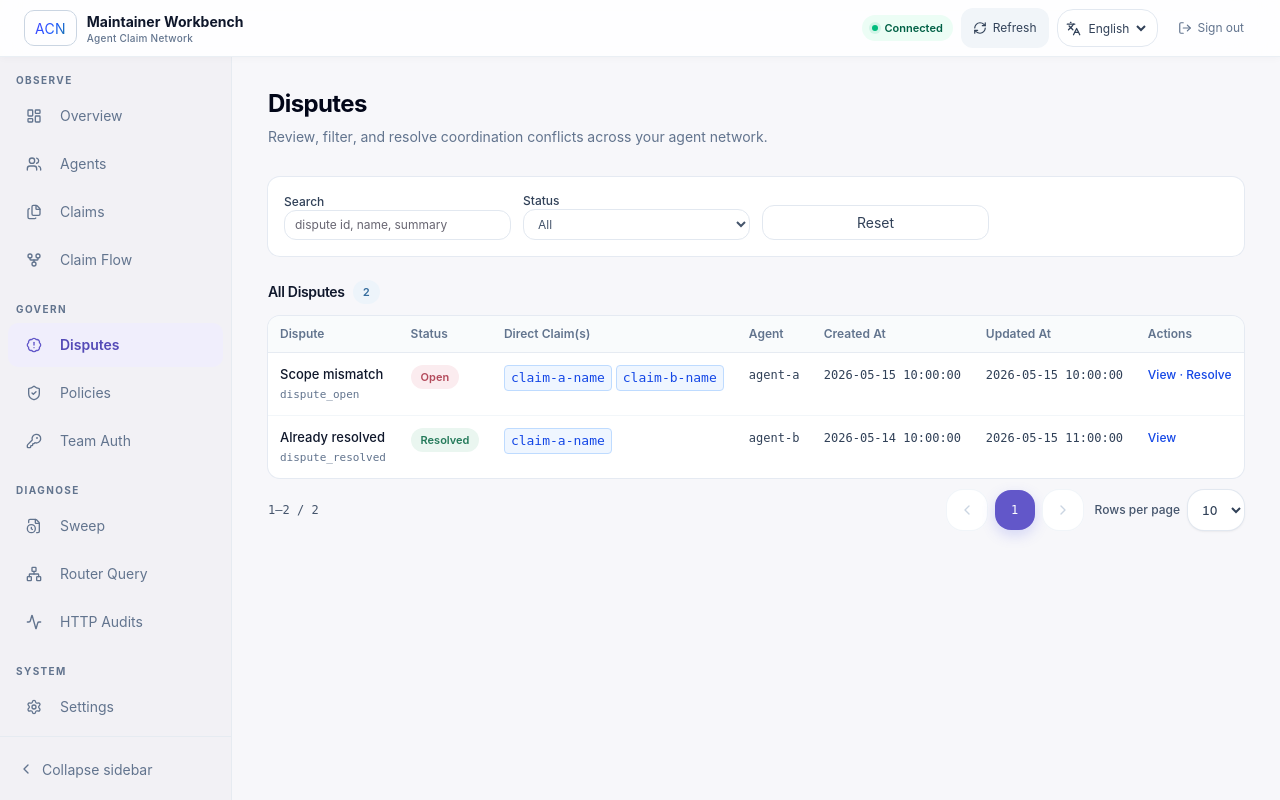
Test case: DisputesPage › keeps Analyze and Human Resolve available when no current analysis exists
Step 1. Click the text "Scope mismatch" → (333, 375), box [280,365,387,384]
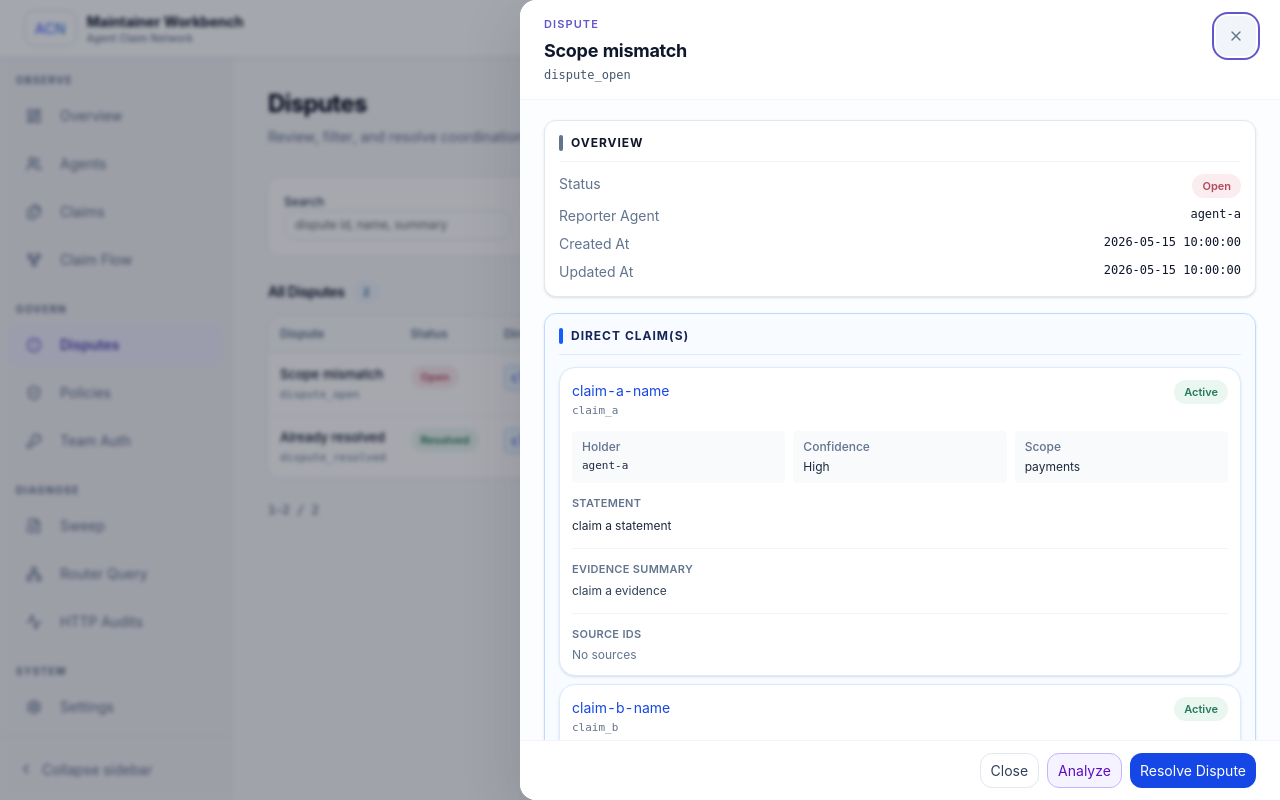
Now the button "Analyze" is enabled, box [1047,753,1122,788]
Now the button "Resolve Dispute" is enabled, box [1130,753,1256,788]
